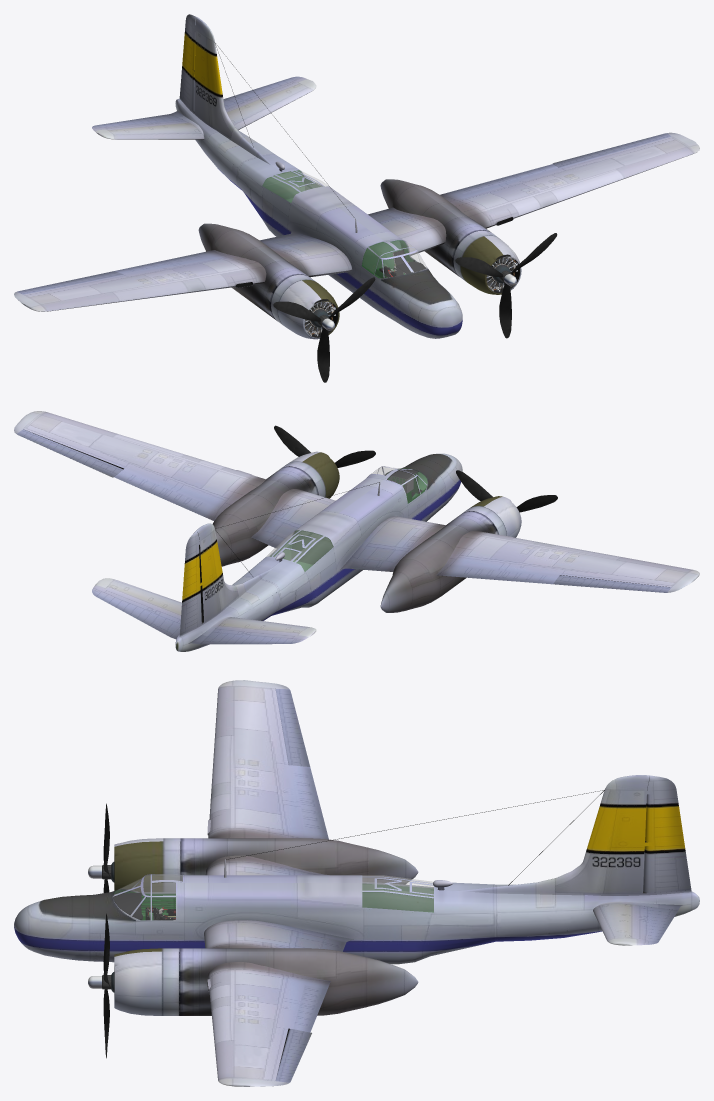
3 renders of one model, top to bottom at view 1: azimuth 30°, elevation 25°; view 2: azimuth 150°, elevation 25°; view 3: azimuth 270°, elevation 25°, orthographic. The views are drawn at different scales.
Visible parts, largest first — view 1: planeBody, rightProp, leftProp, rudder, leftElevator, leftAileron, rightElevator, rightAileron; view 2: planeBody, rudder, leftElevator, rightElevator, leftAileron, rightAileron, leftProp, rightProp; view 3: planeBody, rudder, rightAileron, leftElevator, leftAileron, leftProp, rightProp.
Boxes of the visible parts, bbox=[...] form: planeBody: bbox=[14, 17, 699, 339]; rightProp: bbox=[273, 277, 375, 382]; leftProp: bbox=[455, 233, 557, 338]; rudder: bbox=[179, 14, 195, 111]; leftElevator: bbox=[223, 76, 306, 110]; leftAileron: bbox=[552, 133, 670, 168]; rightElevator: bbox=[92, 114, 186, 130]; rightAileron: bbox=[17, 271, 123, 294]; planeBody: bbox=[14, 411, 699, 651]; rudder: bbox=[179, 530, 201, 635]; leftElevator: bbox=[92, 585, 180, 636]; rightElevator: bbox=[200, 628, 306, 644]; leftAileron: bbox=[17, 429, 123, 477]; rightAileron: bbox=[553, 575, 671, 592]; leftProp: bbox=[274, 425, 375, 467]; rightProp: bbox=[456, 470, 557, 512]; planeBody: bbox=[14, 680, 699, 1086]; rudder: bbox=[643, 775, 691, 892]; rightAileron: bbox=[275, 689, 310, 766]; leftElevator: bbox=[637, 905, 677, 945]; leftAileron: bbox=[275, 1029, 311, 1082]; leftProp: bbox=[88, 913, 111, 1058]; rightProp: bbox=[88, 803, 111, 892].
Bounding box in the file's own units: 21.27 × 5.56 × 15.22.
Materials: 14 (13 with a texture image).
